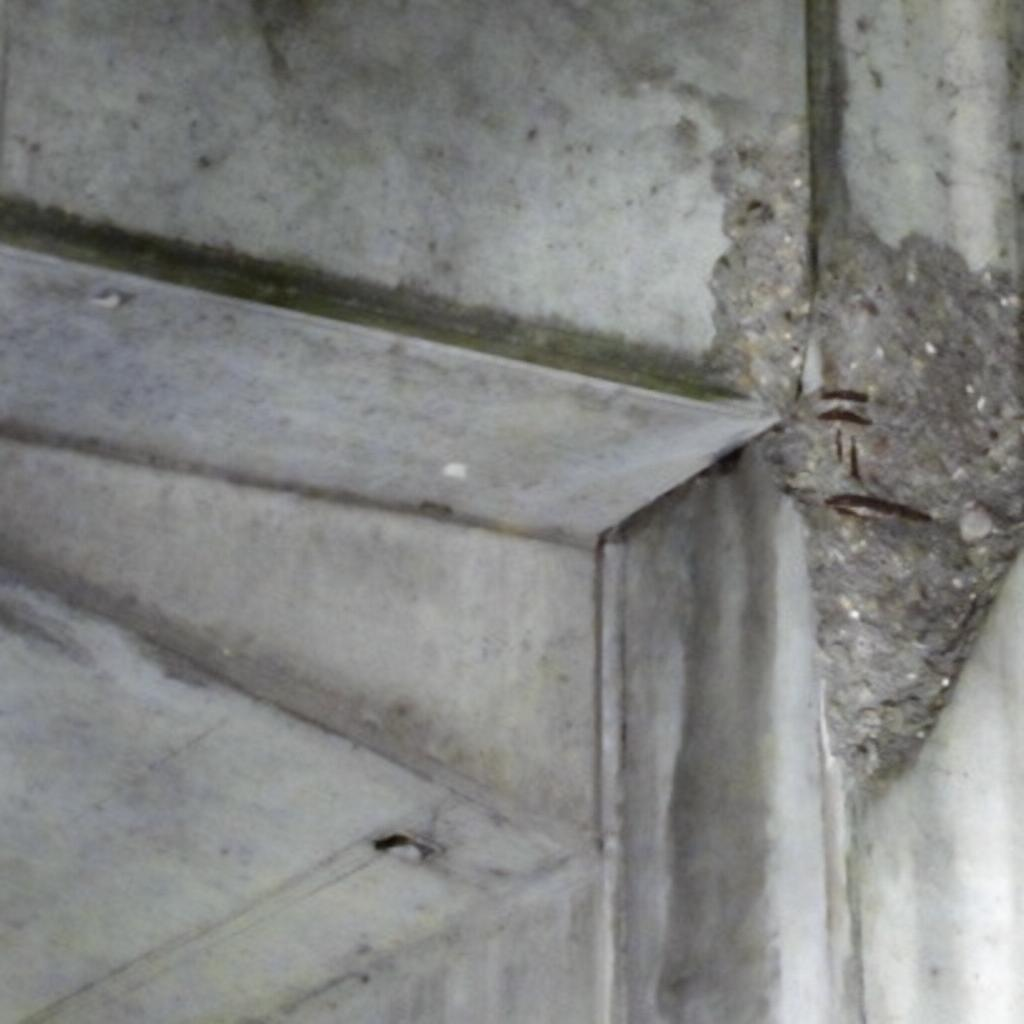exposed_rebar: (826, 494, 932, 522), (818, 408, 872, 425), (822, 390, 868, 401), (850, 436, 860, 478), (836, 428, 842, 461)
spalling: (712, 26, 1024, 779)
